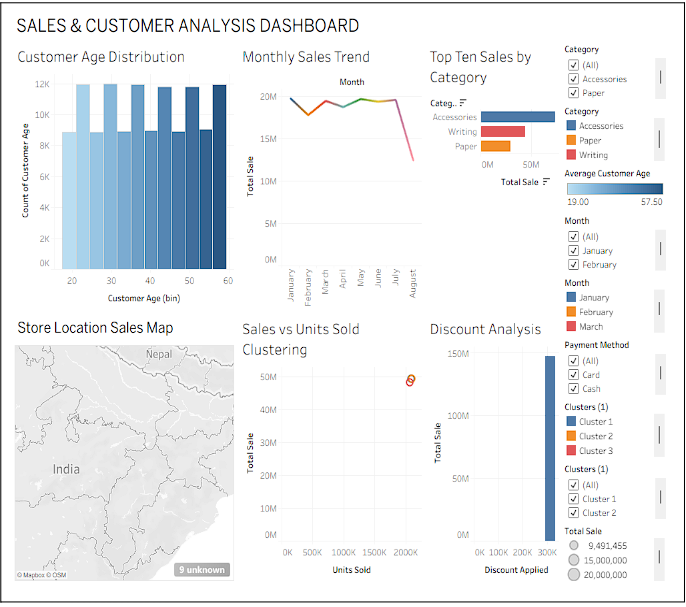

What the dashboard file says about the page in this screenshot:
{"tool":"tableau","page":{"name":"Dashboard 1","canvas":[1000,800],"ordinal":0},"visuals":[{"type":"title","box":[8,8,984,39]},{"type":"worksheet","title":"Customer Age Distribution","mark":"Automatic","rows":["Customer_Age"],"cols":["Customer Age (bin)"],"box":[8,47,337,372.5]},{"type":"worksheet","title":"Monthly Sales Trend","mark":"Line","rows":["Calculation_1528921957867520"],"cols":["Month"],"box":[345,47,281,372.5]},{"type":"worksheet","title":"Top Ten Sales by Category","mark":"Bar","rows":["Category"],"cols":["Calculation_1528921957867520"],"box":[626,47,206,372.5]},{"type":"filter","title":"Top Ten Sales by Category","param":"[federated.1j2094s05ihxag1e73p43057d52f].[none:Category:nk]","box":[832,47,160,85]},{"type":"legend","title":"Top Ten Sales by Category","param":"[federated.1j2094s05ihxag1e73p43057d52f].[none:Category:nk]","box":[832,132,160,85]},{"type":"legend","title":"Customer Age Distribution","param":"[federated.1j2094s05ihxag1e73p43057d52f].[usr:Calculation_1528921958268931:qk]","box":[832,217,160,65]},{"type":"filter","title":"Monthly Sales Trend","param":"[federated.1j2094s05ihxag1e73p43057d52f].[none:Month:nk]","box":[832,282,160,85]},{"type":"legend","title":"Monthly Sales Trend","param":"[federated.1j2094s05ihxag1e73p43057d52f].[none:Month:nk]","box":[832,367,160,85]},{"type":"worksheet","title":"Store Location Sales Map","mark":"Automatic","box":[8,419.5,337,372.5]},{"type":"worksheet","title":"Sales vs Units Sold Clustering","mark":"Automatic","rows":["Calculation_1528921957867520"],"cols":["Units_Sold"],"box":[345,419.5,281,372.5]},{"type":"worksheet","title":"Discount Analysis","mark":"Bar","rows":["Calculation_1528921957867520"],"cols":["Discount_Applied"],"box":[626,419.5,206,372.5]},{"type":"filter","title":"Discount Analysis","param":"[federated.1j2094s05ihxag1e73p43057d52f].[none:Payment_Method:nk]","box":[832,452,160,85]},{"type":"legend","title":"Sales vs Units Sold Clustering","param":"[federated.1j2094s05ihxag1e73p43057d52f].[none:AdhocCluster:2:ok]","box":[832,537,160,85]},{"type":"filter","title":"Sales vs Units Sold Clustering","param":"[federated.1j2094s05ihxag1e73p43057d52f].[none:AdhocCluster:2:ok]","box":[832,622,160,85]},{"type":"legend","title":"Store Location Sales Map","param":"[federated.1j2094s05ihxag1e73p43057d52f].[usr:Calculation_1528921957867520:qk]","box":[832,707,160,85]}]}

Visuals, with their boxes on the page's 1000x800 design canvas (x1, y1, x2, y2). These are canvas units, not pixel positions in the 686x607 screenshot, which may show the page scaled, cropped or inside an application window:
title: detection(8, 8, 992, 47)
"Customer Age Distribution" worksheet: detection(8, 47, 345, 420)
"Monthly Sales Trend" worksheet (Line marks): detection(345, 47, 626, 420)
"Top Ten Sales by Category" worksheet (Bar marks): detection(626, 47, 832, 420)
"Top Ten Sales by Category" filter: detection(832, 47, 992, 132)
"Top Ten Sales by Category" legend: detection(832, 132, 992, 217)
"Customer Age Distribution" legend: detection(832, 217, 992, 282)
"Monthly Sales Trend" filter: detection(832, 282, 992, 367)
"Monthly Sales Trend" legend: detection(832, 367, 992, 452)
"Store Location Sales Map" worksheet: detection(8, 420, 345, 792)
"Sales vs Units Sold Clustering" worksheet: detection(345, 420, 626, 792)
"Discount Analysis" worksheet (Bar marks): detection(626, 420, 832, 792)
"Discount Analysis" filter: detection(832, 452, 992, 537)
"Sales vs Units Sold Clustering" legend: detection(832, 537, 992, 622)
"Sales vs Units Sold Clustering" filter: detection(832, 622, 992, 707)
"Store Location Sales Map" legend: detection(832, 707, 992, 792)
